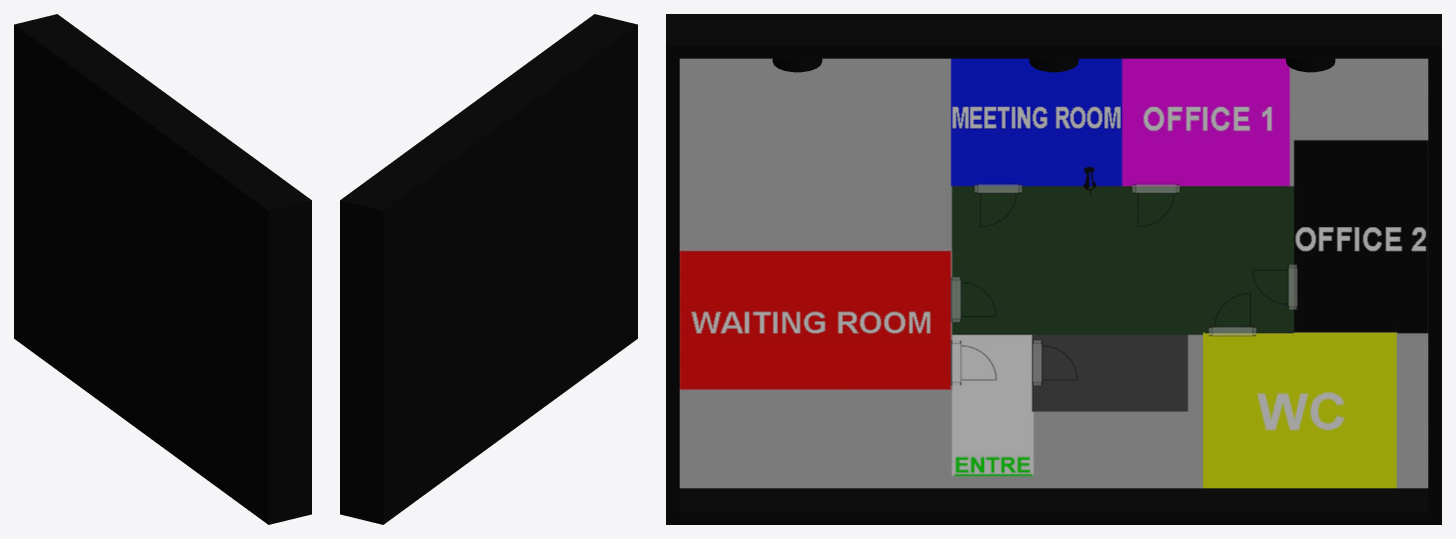
Rendered from Map.FBX.
3 renders of one model, left to right at view 1: azimuth 30°, elevation 25°; view 2: azimuth 150°, elevation 25°; view 3: azimuth 270°, elevation 25°, orthographic. The views are drawn at different scales.
Visible parts, largest first — view 1: Box001; view 2: Box001; view 3: Object003, Box001.
Boxes of the visible parts, bbox=[...] form: Box001: bbox=[14, 14, 311, 524]; Box001: bbox=[340, 14, 637, 524]; Object003: bbox=[679, 58, 1428, 488]; Box001: bbox=[666, 14, 1441, 524].
Bounding box in the file's own units: 276 × 1918 × 2816.
3 materials, 1 textured.
